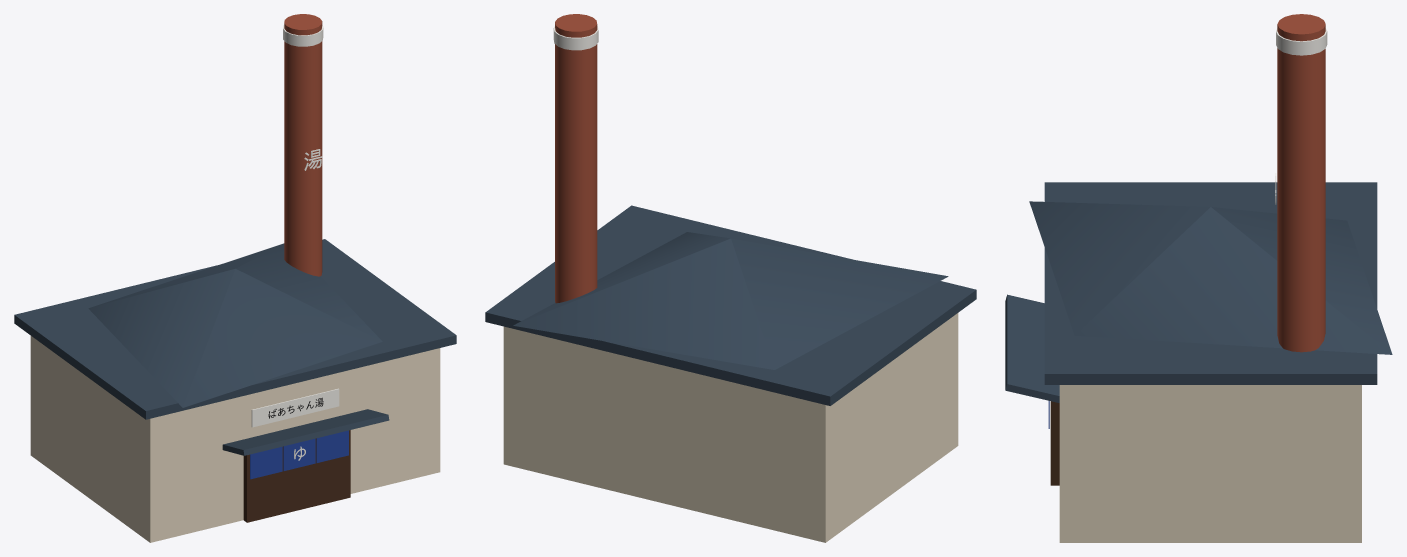
The model's file is sento.glb.
The picture shows the model from 3 angles, left to right: view 1: azimuth 30°, elevation 25°; view 2: azimuth 150°, elevation 25°; view 3: azimuth 270°, elevation 25°; orthographic projection. The views are drawn at different scales.
Visible parts, largest first — view 1: sento_body; view 2: sento_body; view 3: sento_body.
Boxes of the visible parts, left/top/right/bottom form: sento_body: left=14, top=14, right=456, bottom=542; sento_body: left=485, top=14, right=976, bottom=542; sento_body: left=1005, top=14, right=1392, bottom=542.
Bounding box in the file's own units: 15 × 18 × 12.81.
